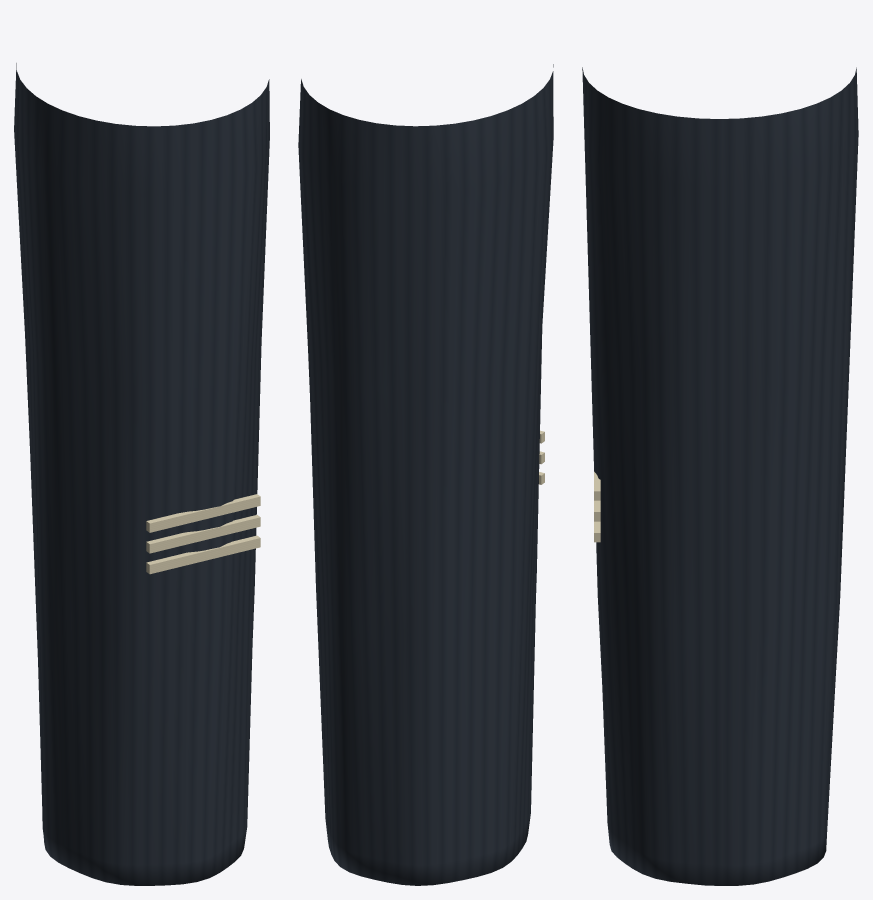
File: reference_ripped_jeans.gltf
3 views of the same model, side by side, from view 1: azimuth 30°, elevation 25°; view 2: azimuth 150°, elevation 25°; view 3: azimuth 270°, elevation 25° (orthographic).
Visible parts, largest first — view 1: LegL; view 2: LegL; view 3: LegL.
Boxes of the visible parts, bbox=[...] form: LegL: bbox=[14, 63, 269, 885]; LegL: bbox=[298, 64, 553, 885]; LegL: bbox=[582, 67, 858, 885].
Size of the model in its own units: 0.2182 by 0.749 by 0.2397.
2 materials, 2 textured.
